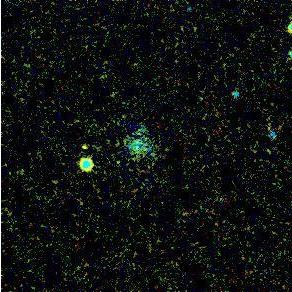star: (69, 131, 99, 161)
